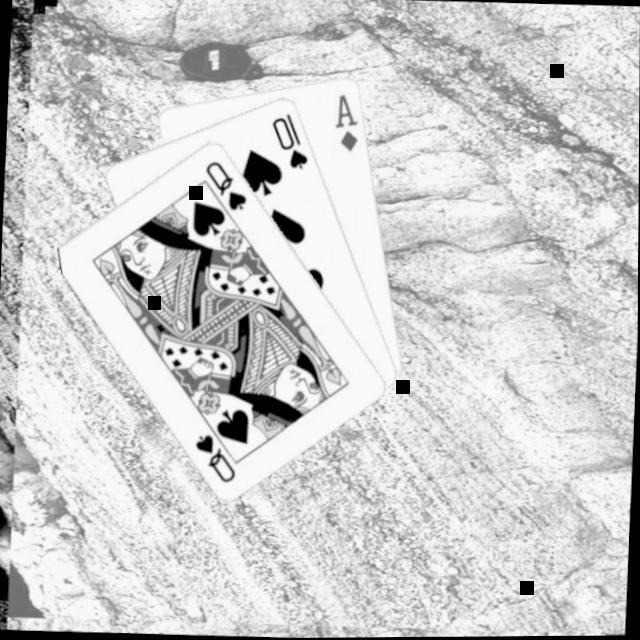10S: (265, 108, 311, 172)
AD: (330, 90, 360, 153)
QS: (198, 154, 250, 212), (189, 427, 239, 485)
